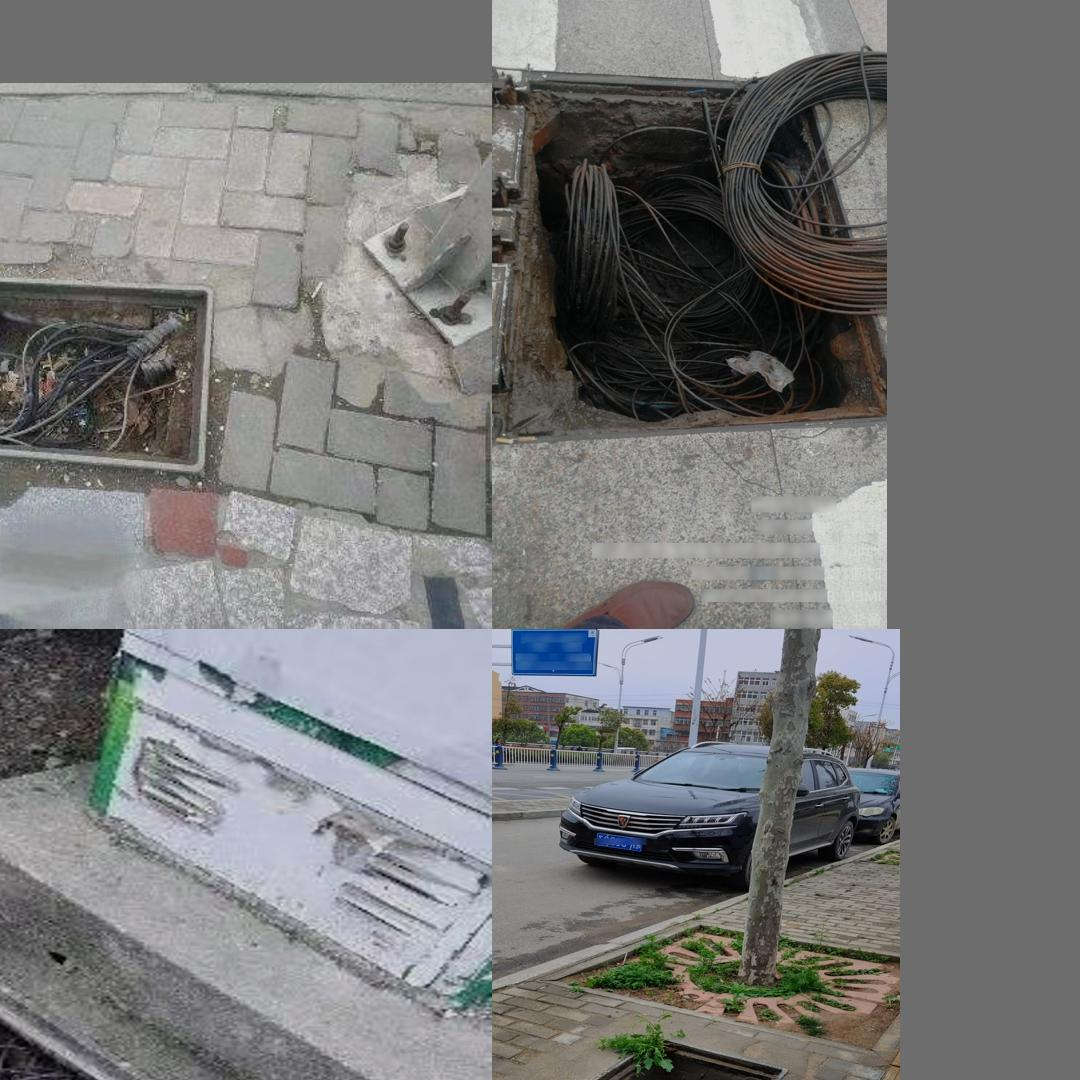lose: (496, 53, 875, 466), (0, 928, 402, 1080), (0, 269, 213, 478), (491, 1041, 788, 1080)
